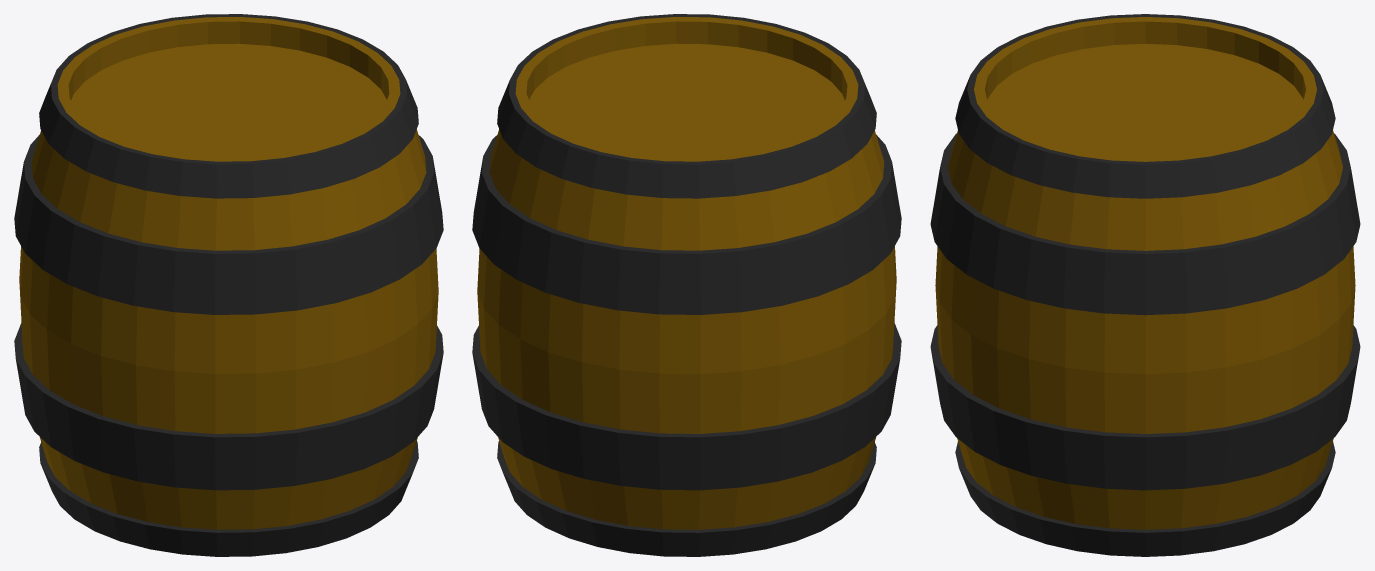
The model's file is barrel.fbx.
The picture shows the model from 3 angles, left to right: view 1: azimuth 30°, elevation 25°; view 2: azimuth 150°, elevation 25°; view 3: azimuth 270°, elevation 25°; orthographic projection.
Visible parts, largest first — view 1: Cylinder; view 2: Cylinder; view 3: Cylinder.
Boxes of the visible parts, x1,y1,x2,y2 form: Cylinder: (14,14,443,556); Cylinder: (472,14,901,556); Cylinder: (930,14,1360,556).
Size of the model in its own units: 251 by 252 by 251.
